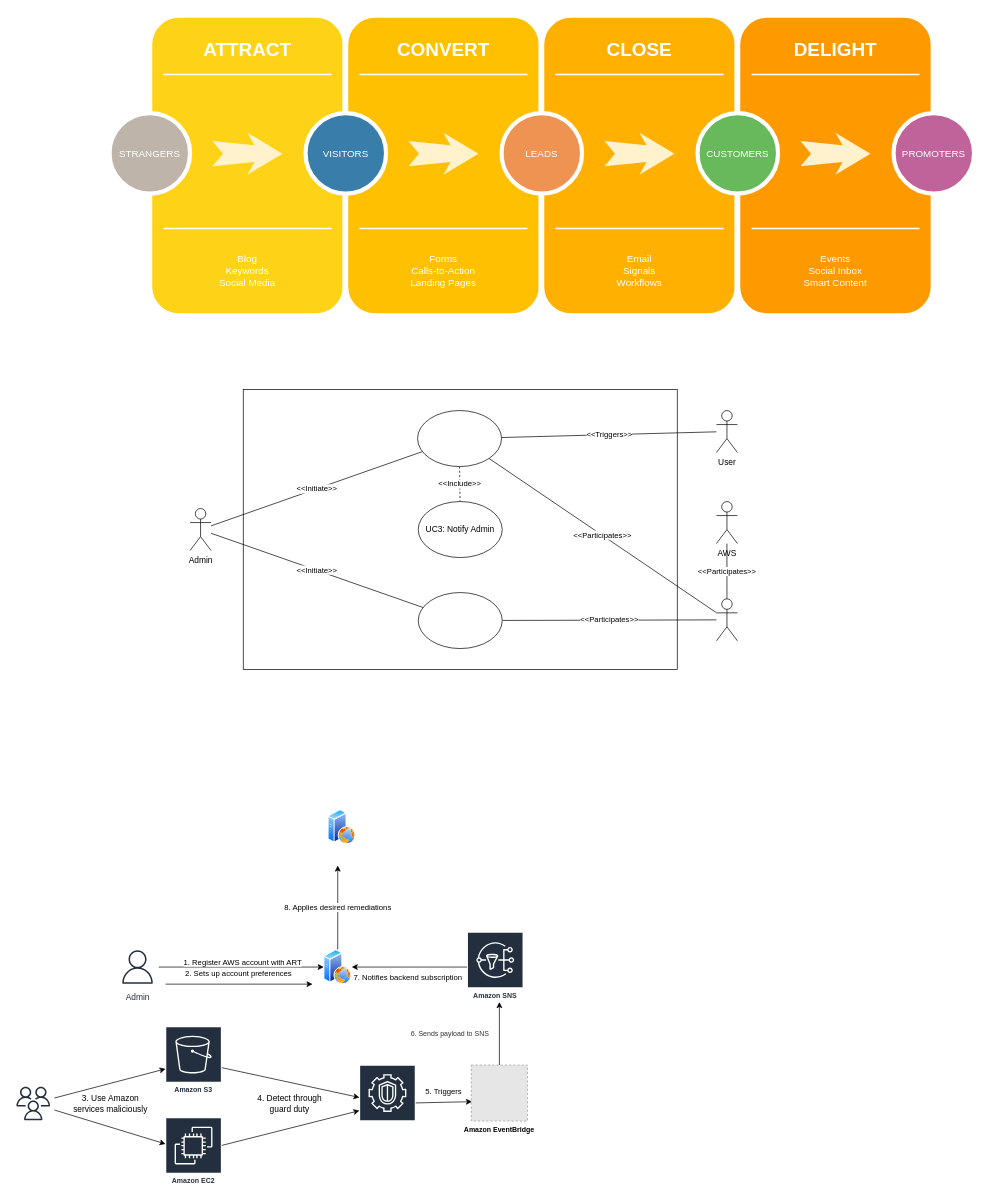
This 988x1200 diagram has some shape labels left out. Grey dashed boxes stand in for pictures. The box of each missing label's shape, as (x1, y1, x2, y2) in pixels:
Amazon GuardDuty: (359, 1064, 415, 1142)
ART: (323, 949, 351, 984)
Art App: (716, 598, 737, 641)
ART Backend + AWS SDK: (328, 809, 356, 844)
UC1: Automate bespoke remediations: (417, 410, 502, 467)
UC2: View security overview: (418, 592, 502, 649)
Users: (12, 1082, 54, 1125)
